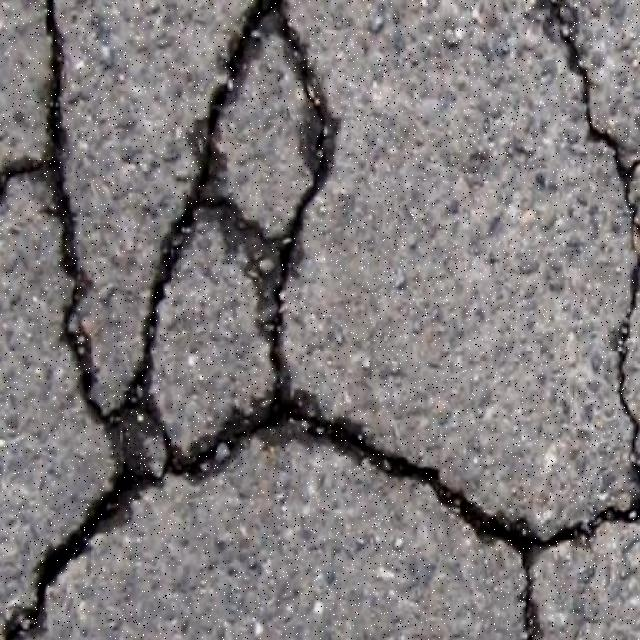Crack: (0, 0, 640, 639), (536, 0, 640, 236), (611, 256, 640, 487)
